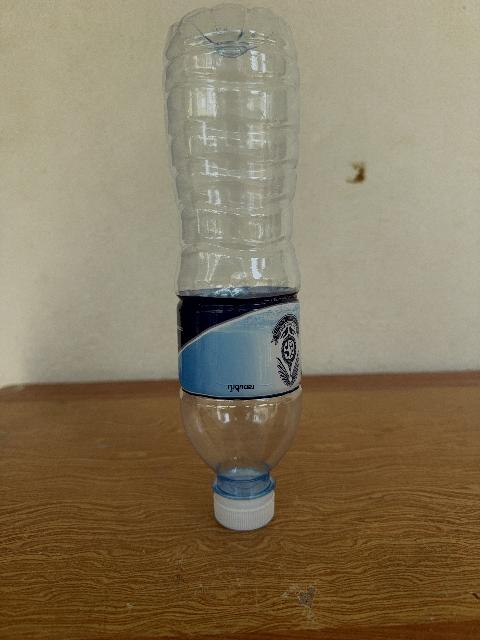bottle: (163, 4, 300, 530)
